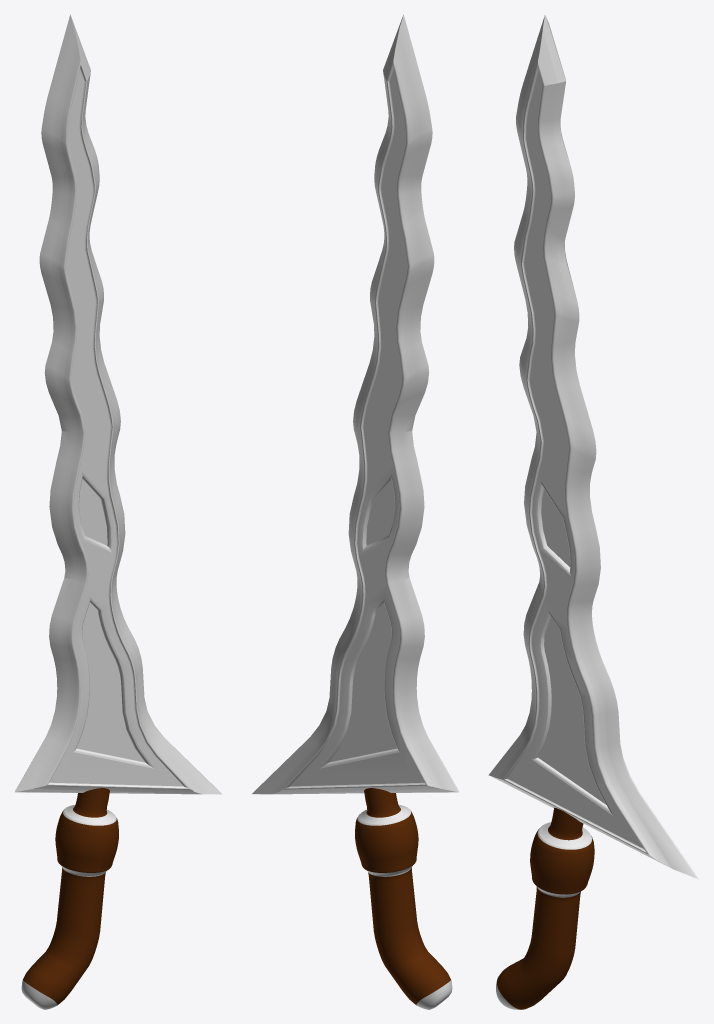
Rendered from Keris Thing fixed fixed.fbx.
3 renders of one model, left to right at view 1: azimuth 30°, elevation 25°; view 2: azimuth 150°, elevation 25°; view 3: azimuth 330°, elevation 25°, orthographic.
Parts seen in each view (by area): view 1: Cylinder; view 2: Cylinder; view 3: Cylinder.
Boxes of the visible parts, x1,y1,x2,y2 form: Cylinder: (15, 14, 221, 1009); Cylinder: (252, 14, 458, 1009); Cylinder: (488, 14, 698, 1009).
Size of the model in its own units: 8.15 by 36.9 by 2.14.
